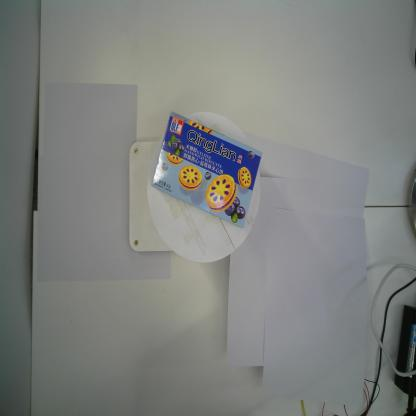Dessert: (150, 110, 263, 229)
